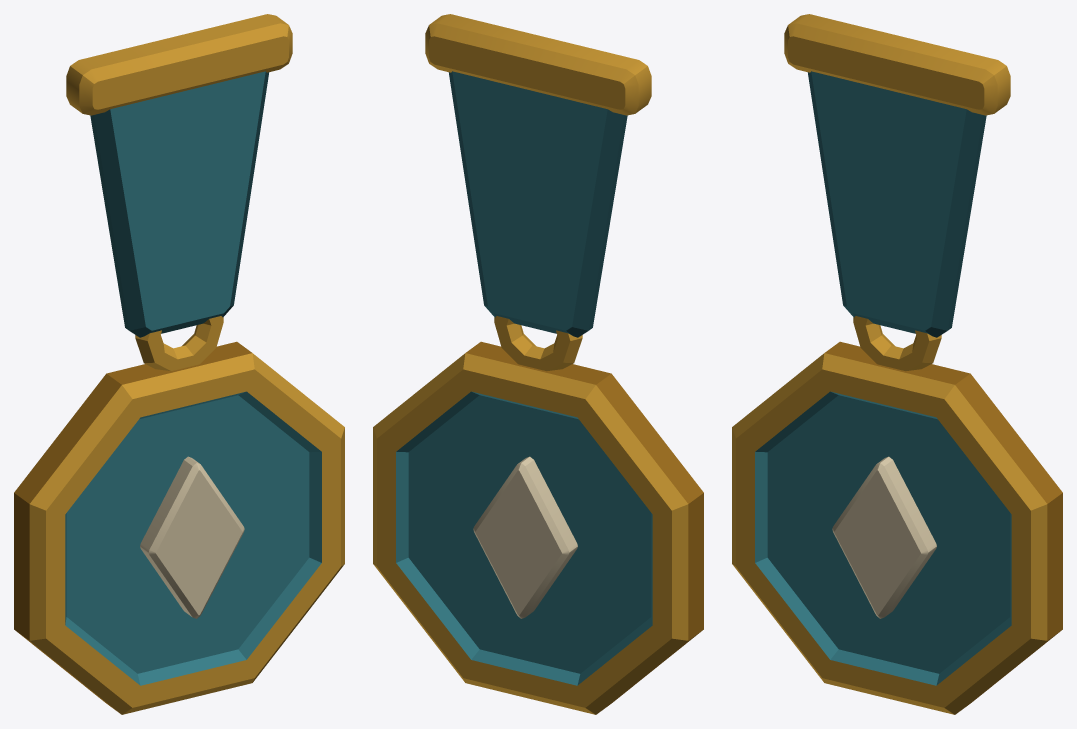
File: Medal_25.glb
3 renders of one model, left to right at view 1: azimuth 30°, elevation 25°; view 2: azimuth 150°, elevation 25°; view 3: azimuth 330°, elevation 25°, orthographic.
Parts seen in each view (by area): view 1: Medal_25; view 2: Medal_25; view 3: Medal_25.
Part boxes in pixels (x1,y1,x2,y2): Medal_25: (14, 14, 344, 714); Medal_25: (373, 14, 703, 714); Medal_25: (732, 14, 1062, 714).
Bounding box in the file's own units: 1.29 × 2.54 × 0.28.
